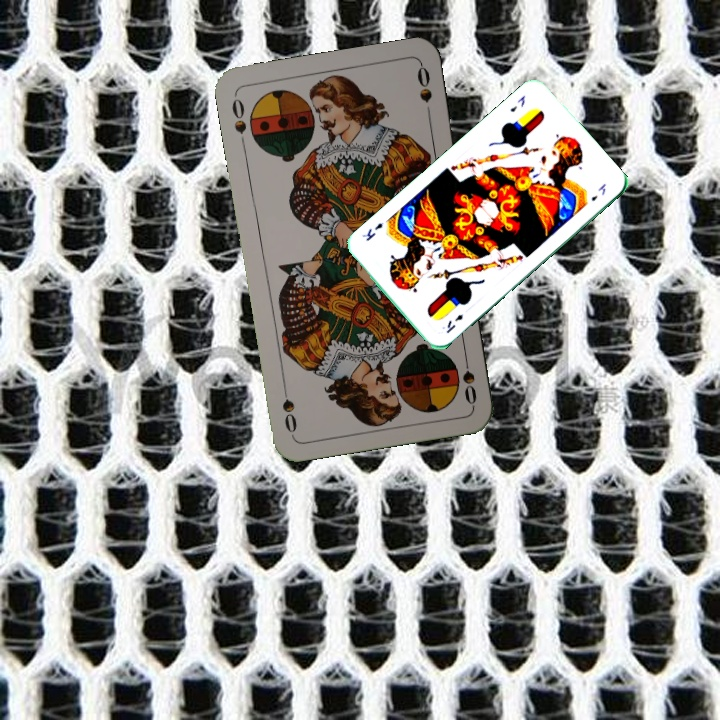EK: (442, 310, 466, 336), (506, 91, 528, 115)
SO: (458, 348, 479, 407), (228, 92, 249, 137)
